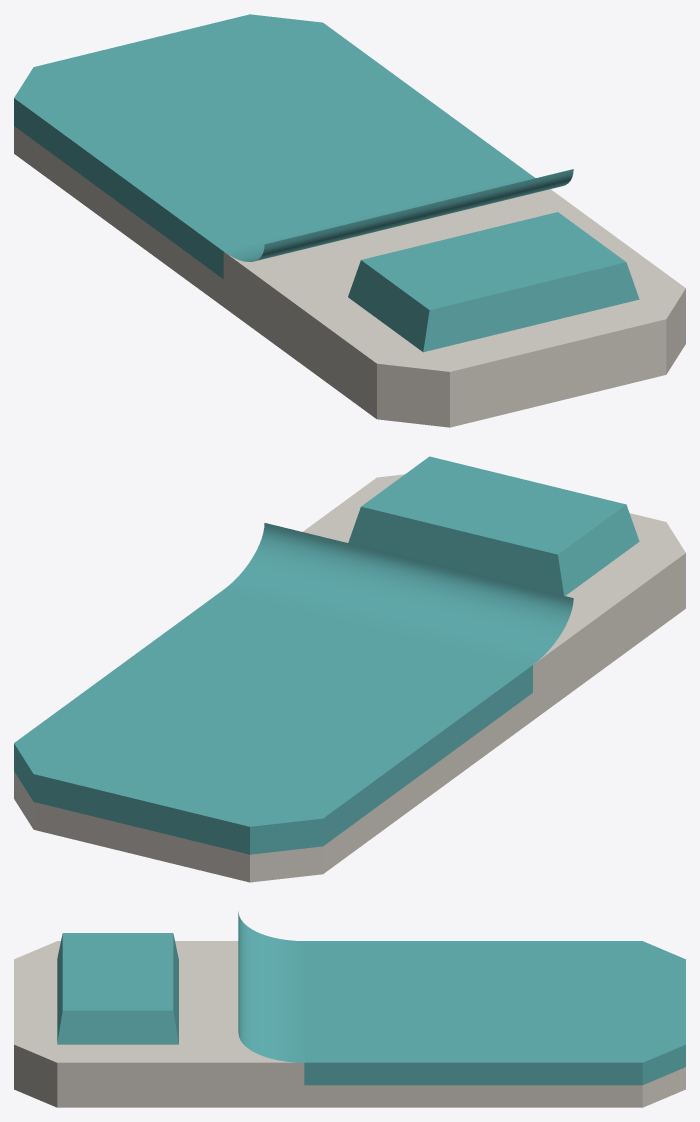
Rendered from bed_floor.glb.
The picture shows the model from 3 angles, top to bottom: view 1: azimuth 30°, elevation 25°; view 2: azimuth 150°, elevation 25°; view 3: azimuth 270°, elevation 25°; orthographic projection. The views are drawn at different scales.
Visible parts, largest first — view 1: bed_floor; view 2: bed_floor; view 3: bed_floor.
Boxes of the visible parts, <box> form: bed_floor: <box>14,14,685,427</box>; bed_floor: <box>14,456,685,882</box>; bed_floor: <box>14,911,685,1107</box>.
Bounding box in the file's own units: 0.3203 × 0.0921 × 0.7473.
